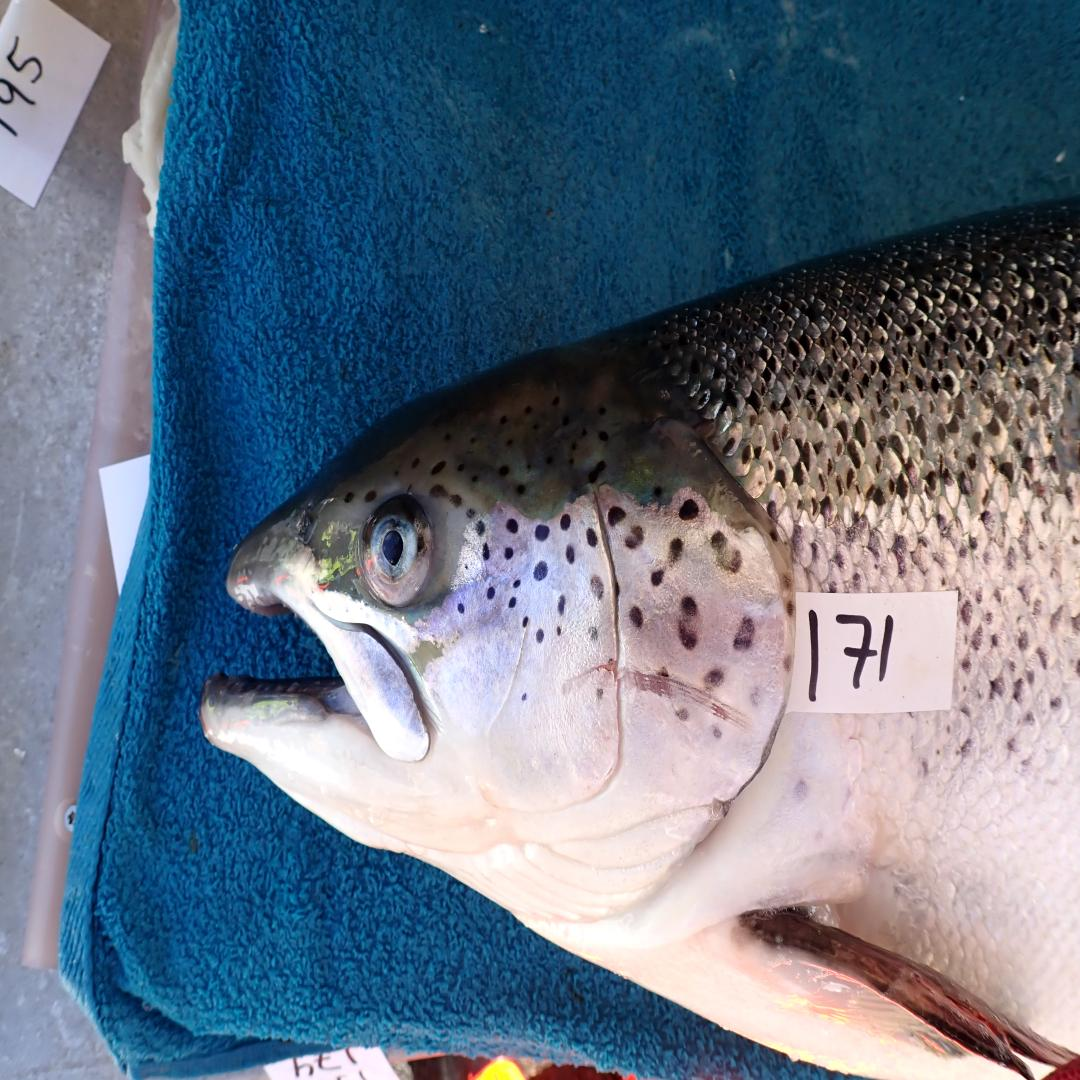roi: (427, 484, 799, 933)
